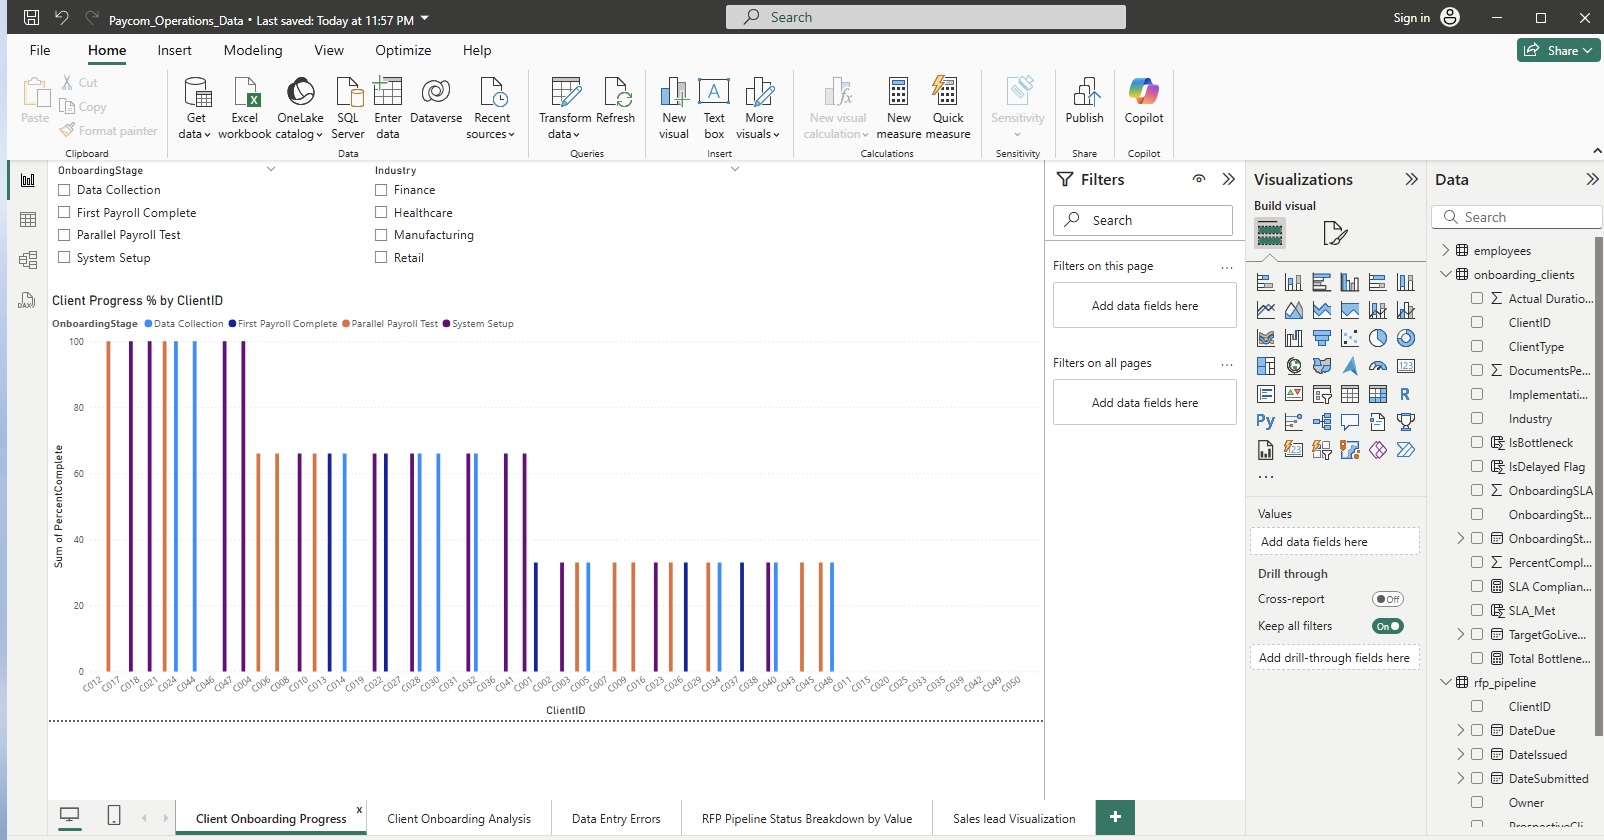

The page's visual inventory and layout, read from the dashboard file:
{"tool":"powerbi","page":{"name":"Client Onboarding Progress","canvas":[1280,720],"ordinal":0},"visuals":[{"type":"clusteredColumnChart","title":"Client Progress % by ClientID","fields":{"Category":["onboarding_clients.ClientID"],"Y":["Sum(onboarding_clients.PercentComplete)"],"Series":["onboarding_clients.OnboardingStage"]},"box":[0,170.9,1280,548.8],"z":0},{"type":"slicer","fields":{"Values":["onboarding_clients.Industry"]},"box":[407.4,0,494.8,170.9],"z":1000},{"type":"slicer","fields":{"Values":["onboarding_clients.OnboardingStage"]},"box":[0,0,305.9,170.9],"z":2000}]}

Visuals, with their boxes on the page's 1280x720 design canvas (x1, y1, x2, y2). These are canvas units, not pixel positions in the 1604x840 screenshot, which may show the page scaled, cropped or inside an application window:
"Client Progress % by ClientID" clusteredColumnChart: bbox(0, 171, 1280, 720)
slicer - onboarding_clients.Industry: bbox(407, 0, 902, 171)
slicer - onboarding_clients.OnboardingStage: bbox(0, 0, 306, 171)
